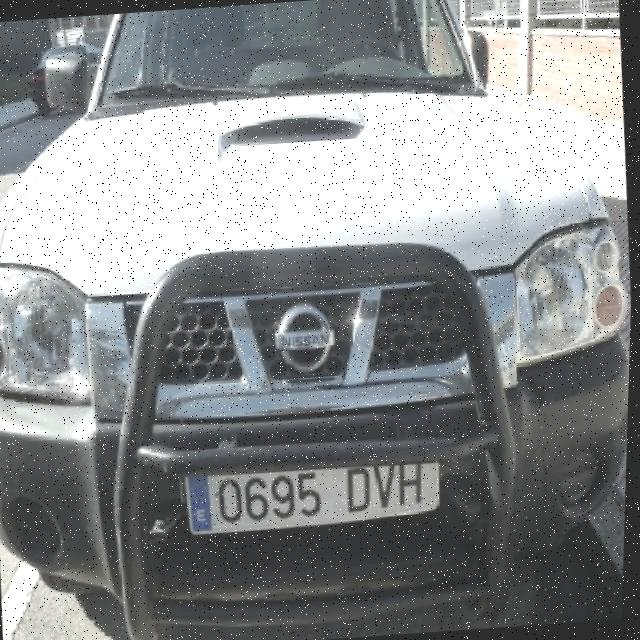license_plate: (186, 459, 447, 535)
